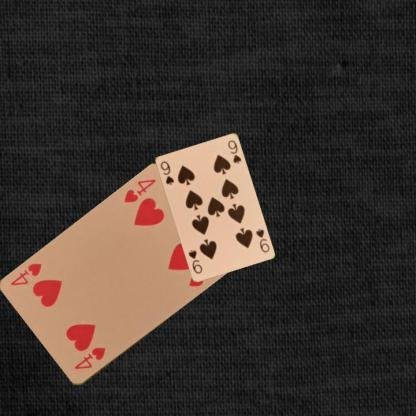4h: (120, 176, 157, 205), (71, 344, 107, 372)
9s: (252, 226, 271, 254), (158, 158, 176, 186)
